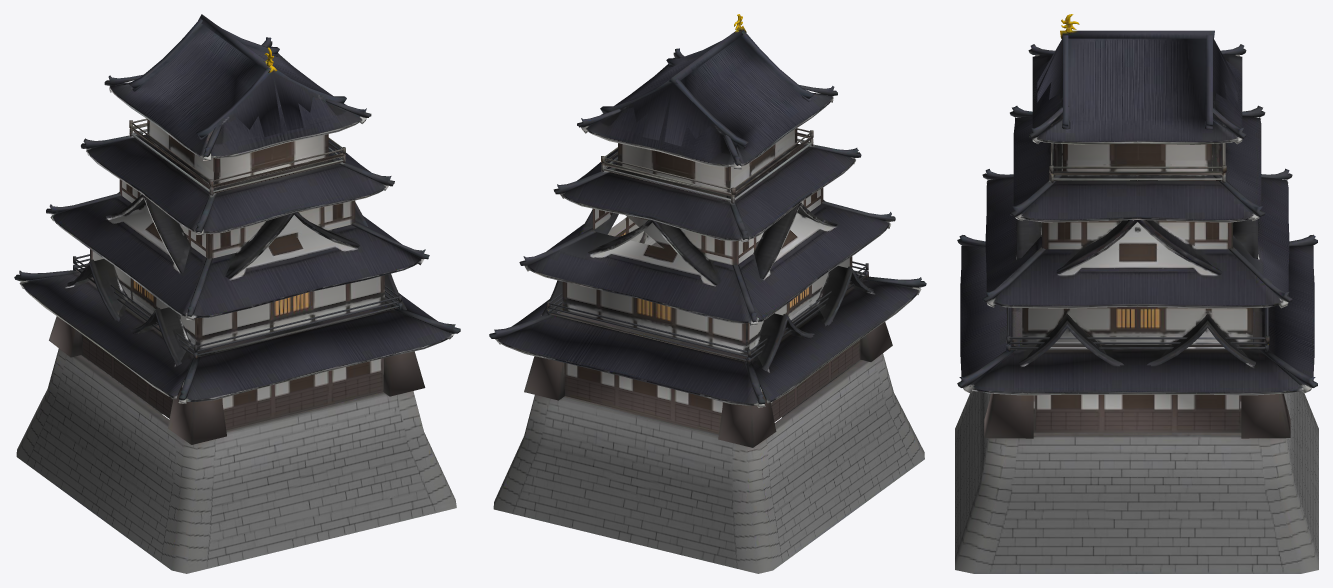
The model's file is original_glb.glb.
3 views of the same model, side by side, from view 1: azimuth 30°, elevation 25°; view 2: azimuth 150°, elevation 25°; view 3: azimuth 270°, elevation 25° (orthographic). The views are drawn at different scales.
Visible parts, largest first — view 1: Gilded Tenshu Keep; view 2: Gilded Tenshu Keep; view 3: Gilded Tenshu Keep.
Part boxes in pixels (x1,y1,x2,y2): Gilded Tenshu Keep: (14, 14, 460, 573); Gilded Tenshu Keep: (489, 14, 926, 573); Gilded Tenshu Keep: (955, 14, 1318, 573).
Bounding box in the file's own units: 0.6582 × 0.998 × 0.6777.
Materials: 1 (1 with a texture image).
